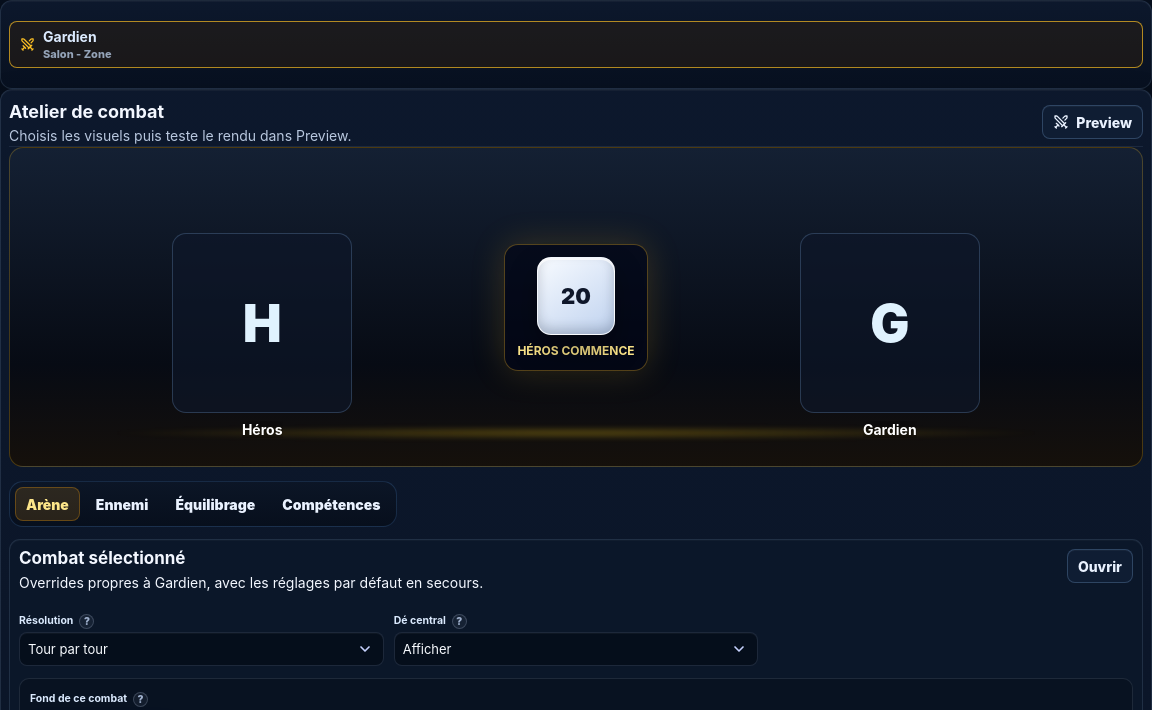
it: CombatWorkspace › renders every combat panel for a combat source
This screenshot has width=1152, height=710.
Click the button "Ennemi" at x=122, y=504, box [85,487,159,521]
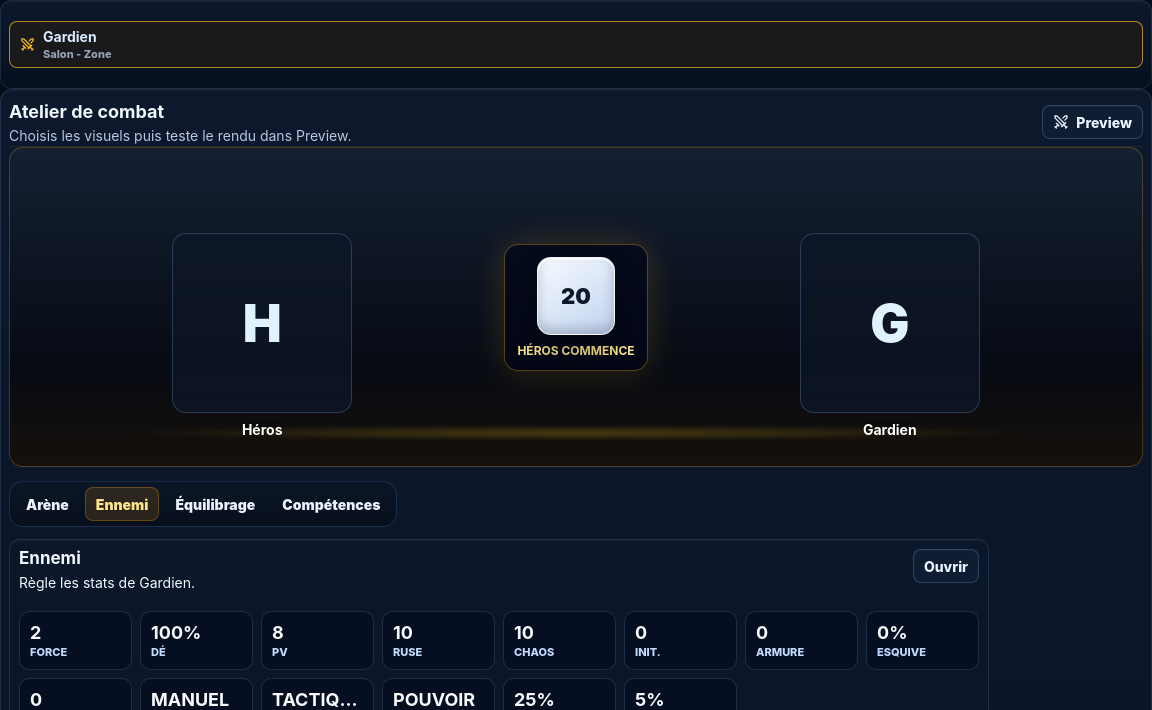
Click the button "Équilibrage" at x=215, y=504, box [164,487,266,521]
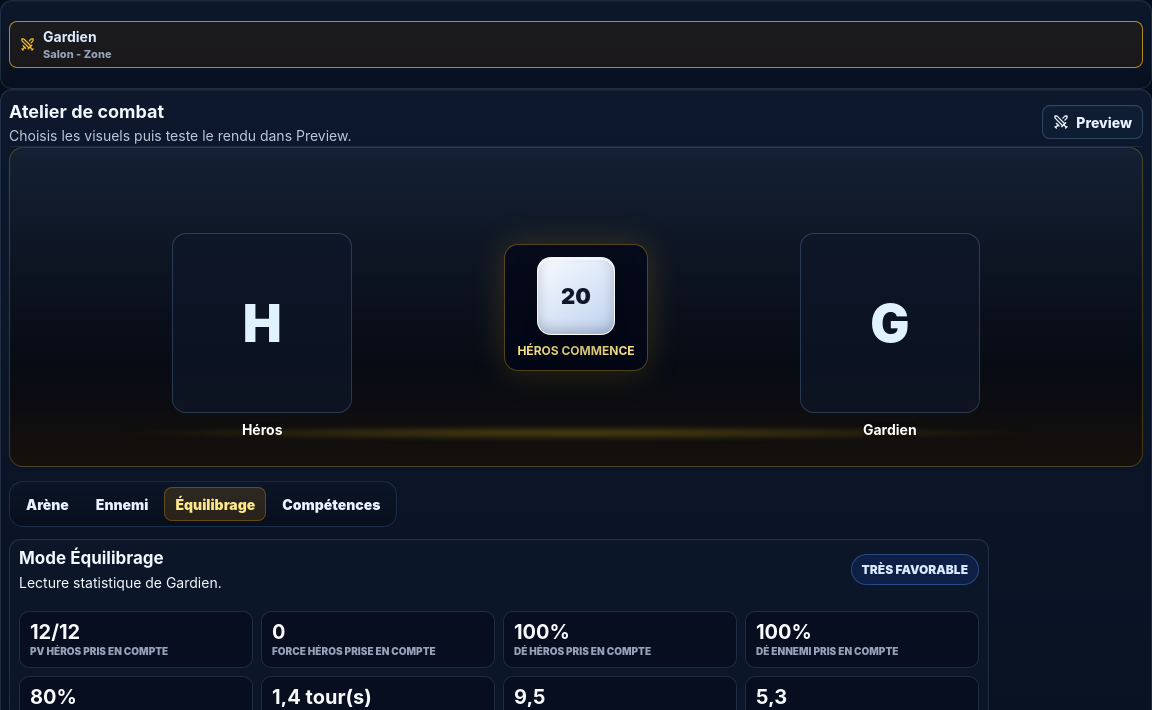
Check: the 1st text "Gardien" is shown, box [43,28,97,45]
Check: the heading "Mode Équilibrage" is shown, box [19,548,164,568]
Click the button "Compétences" at x=331, y=504, box [271,487,392,521]
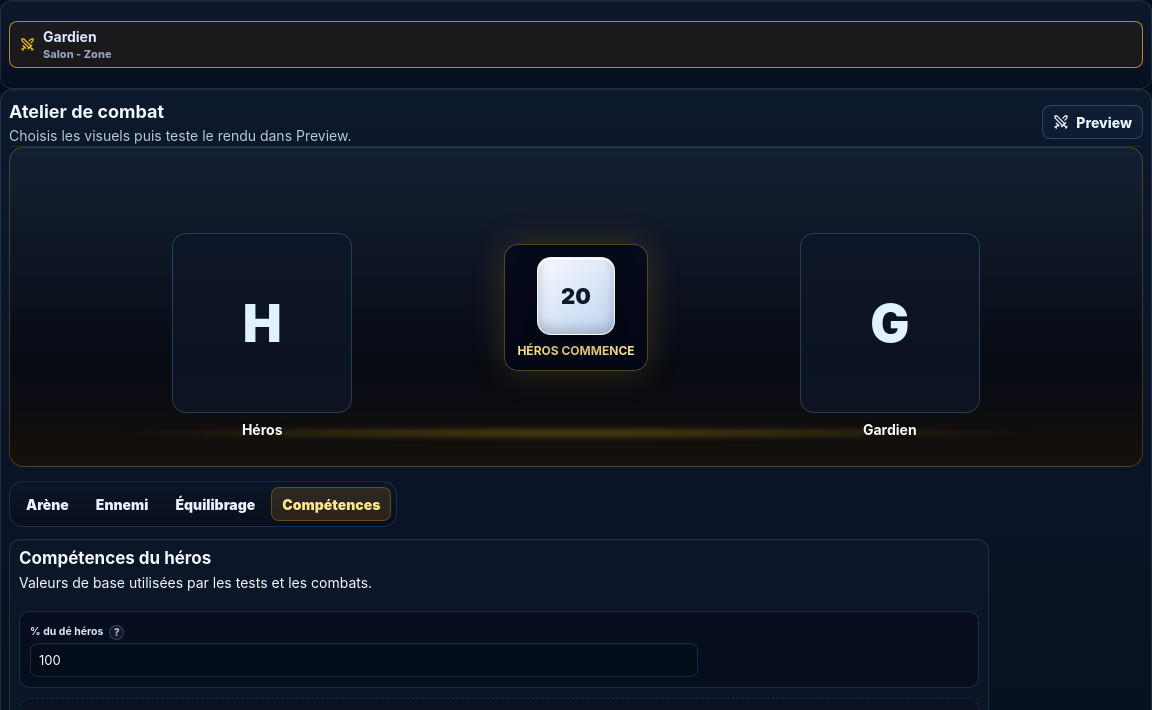
Check: the heading "Compétences du héros" is shown, box [19,548,211,568]
Click the button "Arène" at x=47, y=504, box [15,487,80,521]
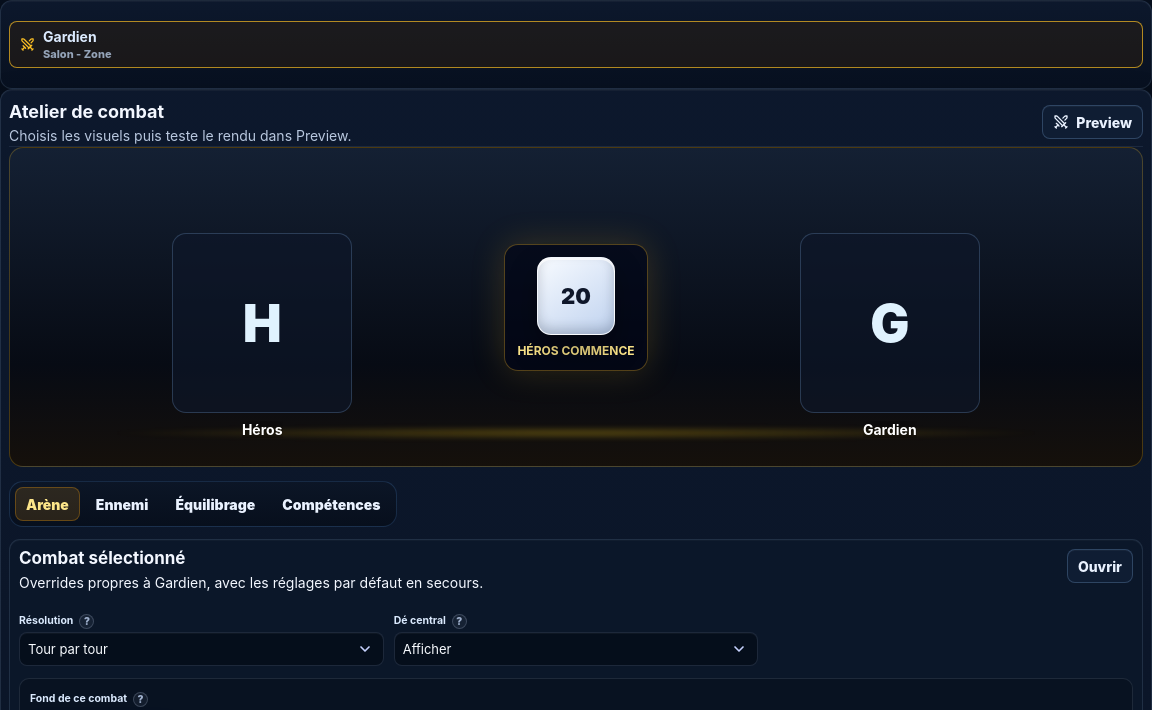
Check: the heading "Combat sélectionné" is shown, box [19,548,186,568]
